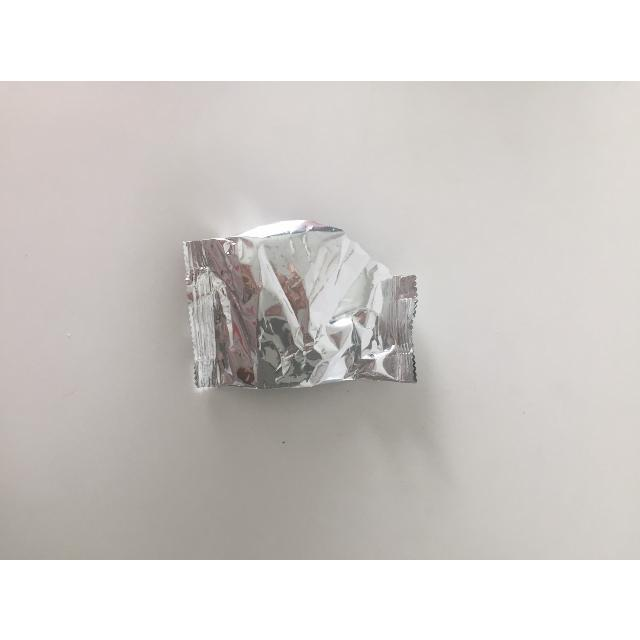Paquete de plastico: (185, 216, 416, 392)
